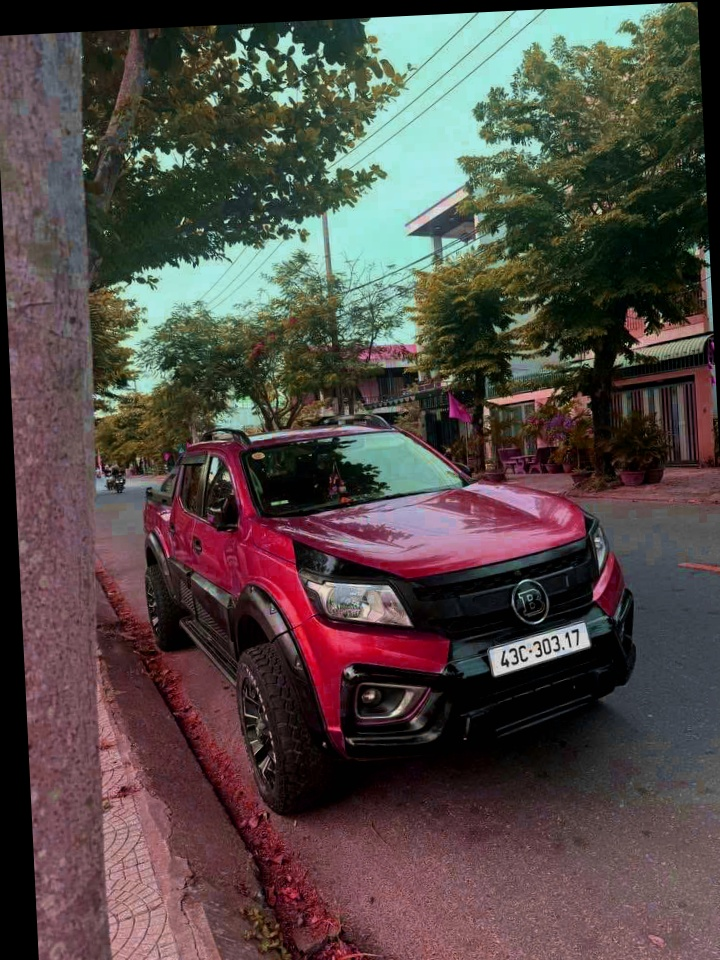Bien-so: (438, 649, 549, 713)
